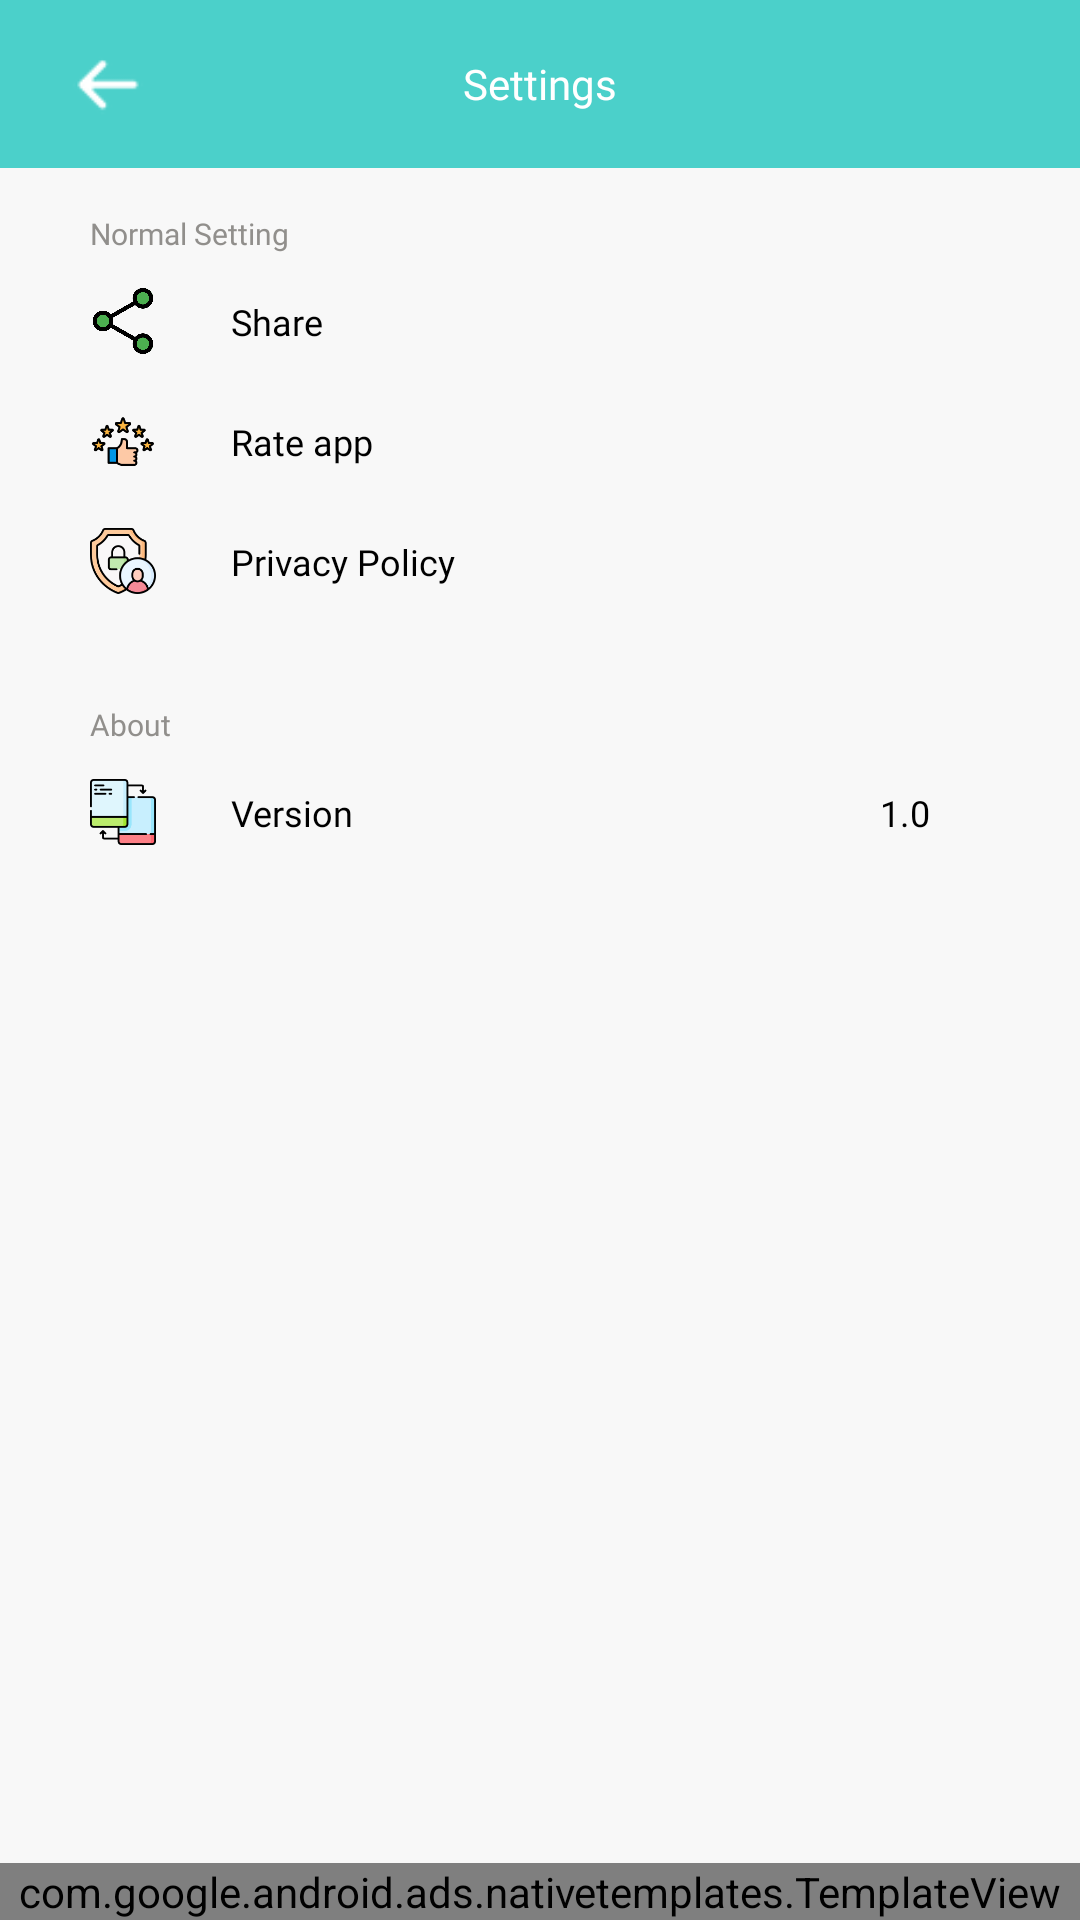

Where to tap for icons on this 1080*1920 app screen, as point (x, y):
back: point (108, 85)
